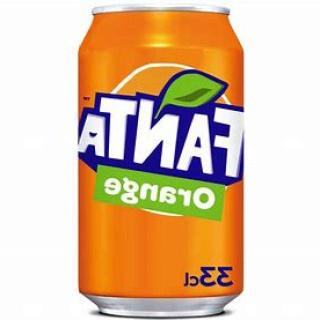Anorganik: (71, 3, 253, 320)
